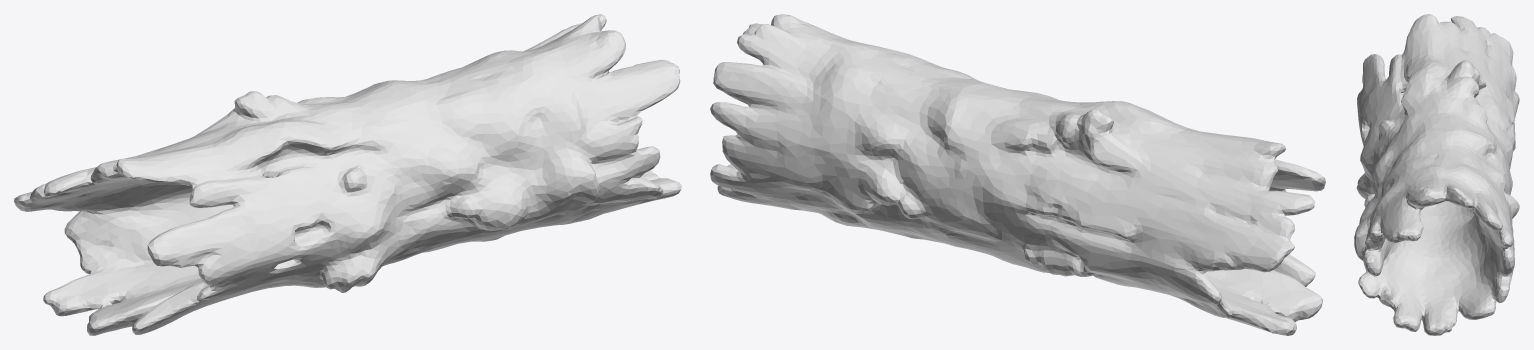
The model's file is log01.glb.
The picture shows the model from 3 angles, left to right: view 1: azimuth 30°, elevation 25°; view 2: azimuth 150°, elevation 25°; view 3: azimuth 270°, elevation 25°; orthographic projection. The views are drawn at different scales.
Parts seen in each view (by area): view 1: Low; view 2: Low; view 3: Low.
Part boxes in pixels (x1,y1,x2,y2): Low: [14, 14, 681, 335]; Low: [710, 14, 1325, 335]; Low: [1354, 14, 1519, 335].
Size of the model in its own units: 1.98 by 0.5748 by 0.6199.
1 material, 1 textured.
